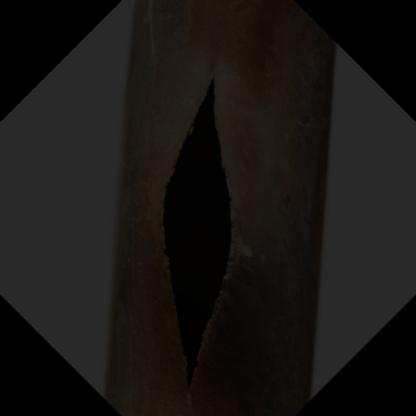burst: (162, 67, 257, 389)
